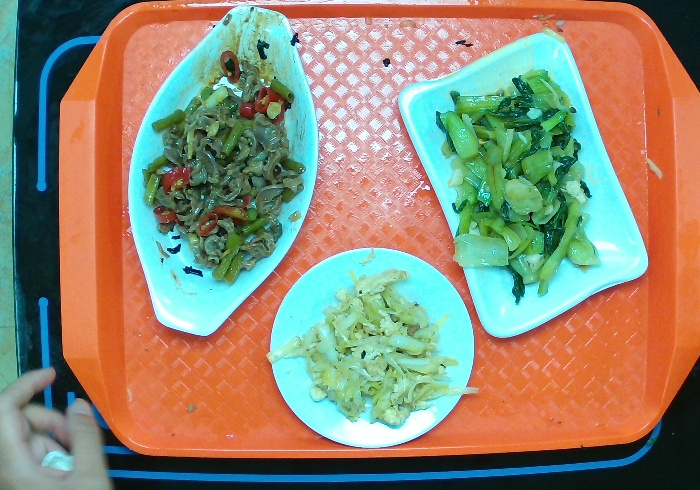RJxy-Si_Fang_Ao_Bian_Wan: (394, 28, 648, 338)
RJxy-Xiao_Yuan_Die: (266, 241, 477, 445)
RJxy-Yu_Pan: (124, 4, 323, 339)
